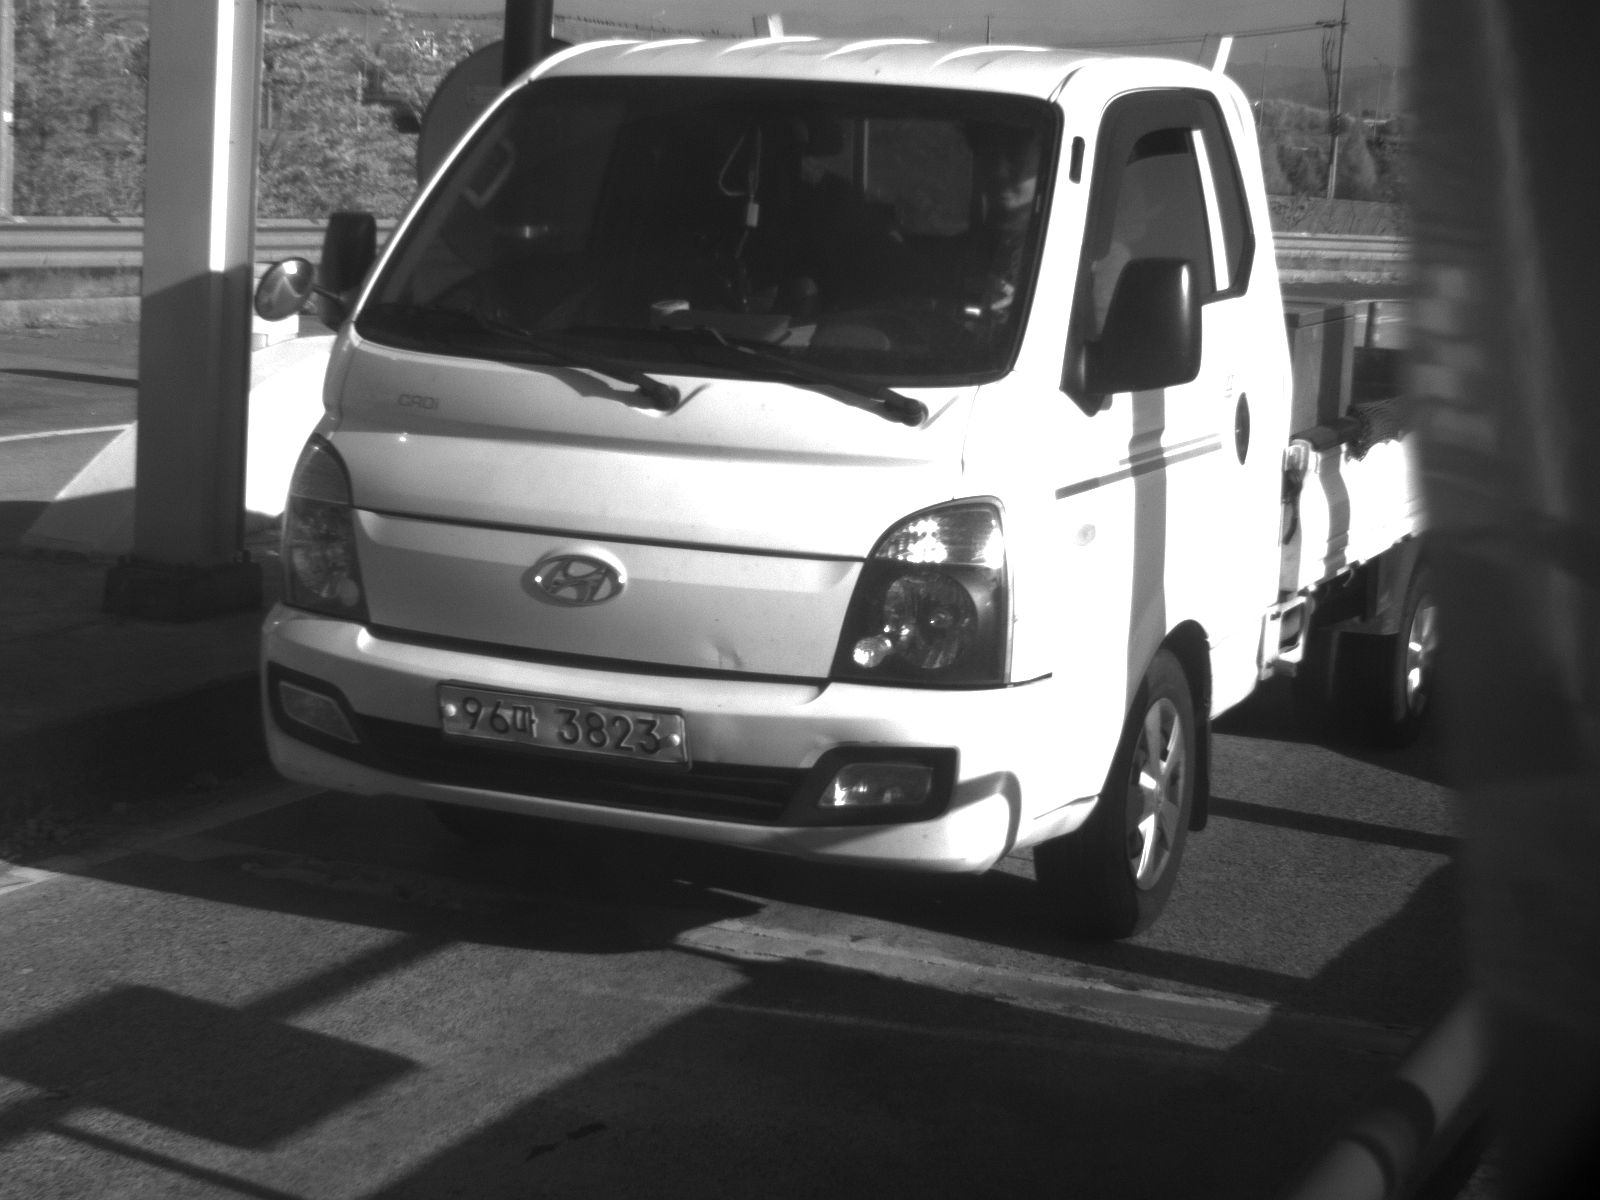car: (249, 28, 1435, 948)
plate: (434, 675, 692, 770)
